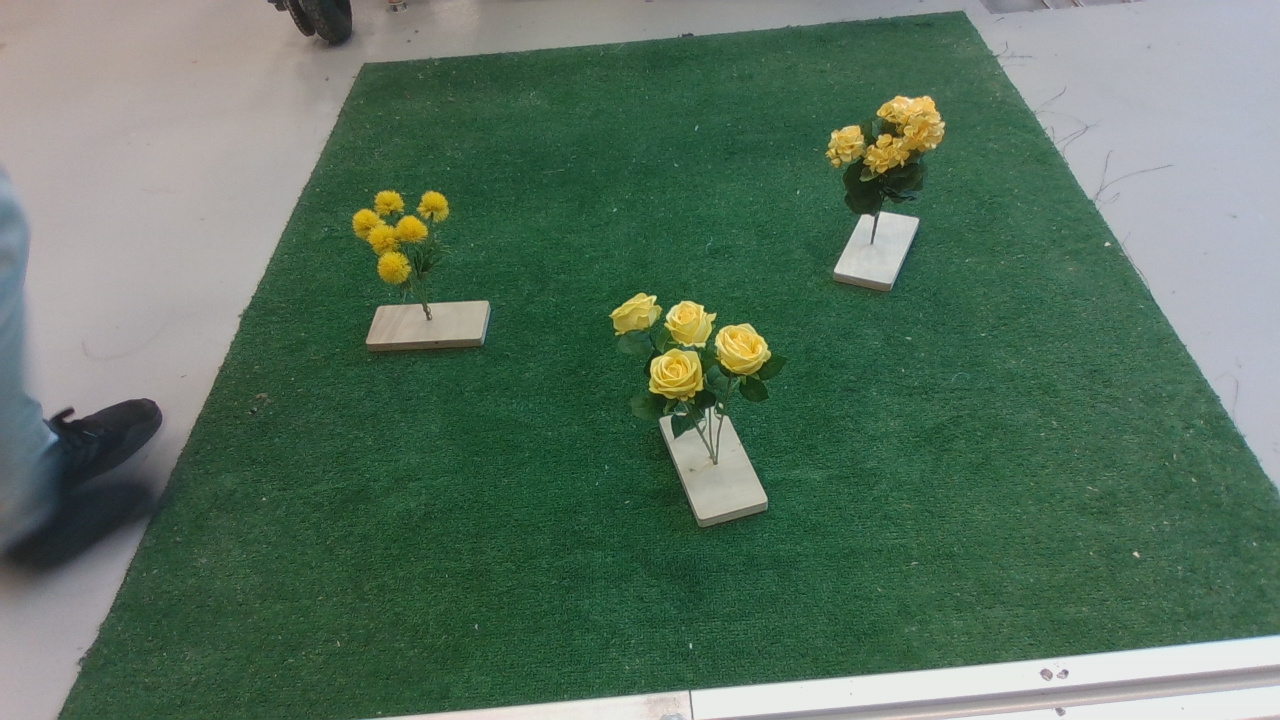dandelion: (357, 189, 464, 304)
geranium: (820, 97, 960, 224)
rose: (604, 284, 800, 452)
